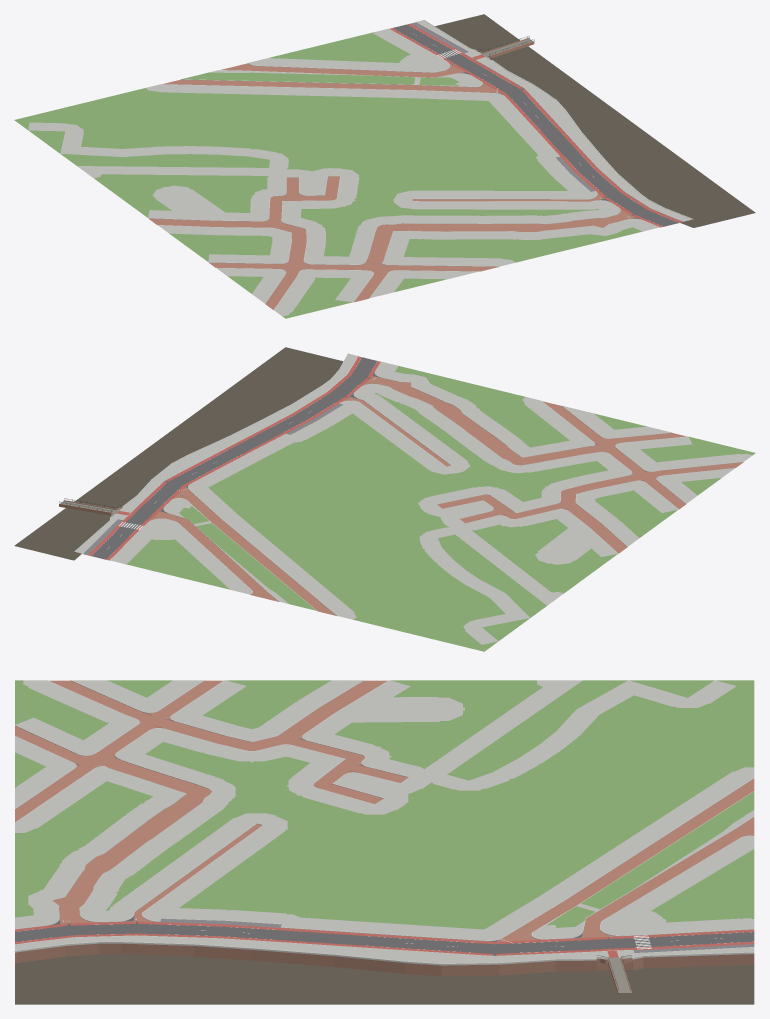
Rendered from ground_6_10.glb.
The picture shows the model from 3 angles, top to bottom: view 1: azimuth 30°, elevation 25°; view 2: azimuth 150°, elevation 25°; view 3: azimuth 270°, elevation 25°; orthographic projection. The views are drawn at different scales.
Parts seen in each view (by area): view 1: ground_6_10; view 2: ground_6_10; view 3: ground_6_10.
Part boxes in pixels (x1=…): ground_6_10: x1=14, y1=14, x2=755, y2=318; ground_6_10: x1=14, y1=347, x2=755, y2=651; ground_6_10: x1=14, y1=680, x2=754, y2=1004.
Bounding box in the file's own units: 200 × 4.6 × 201.
